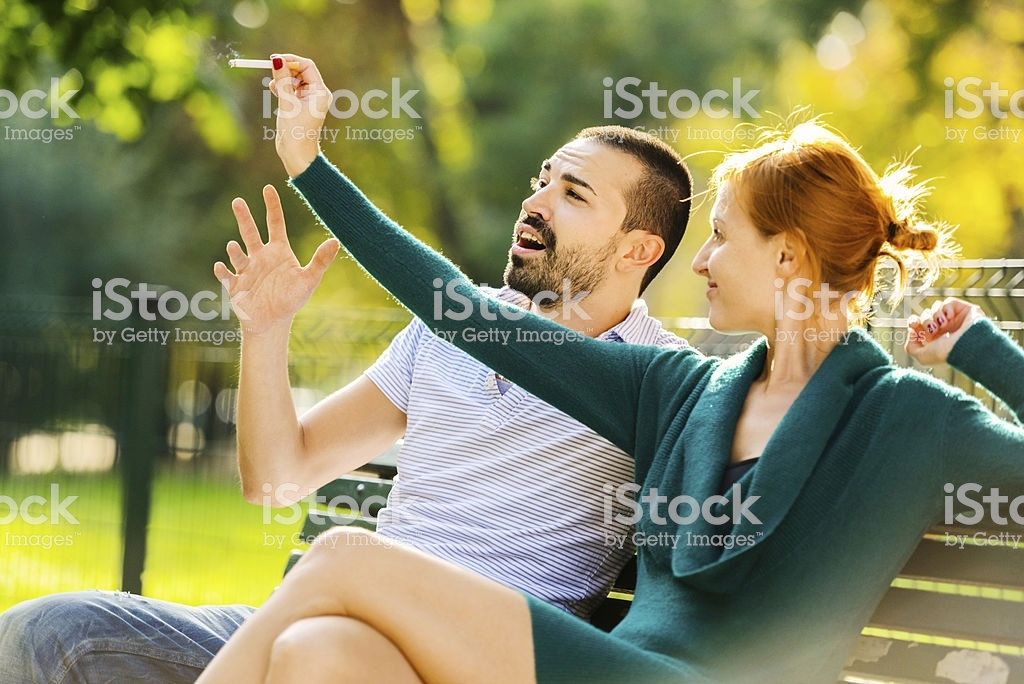sigaretta: (222, 56, 304, 78)
